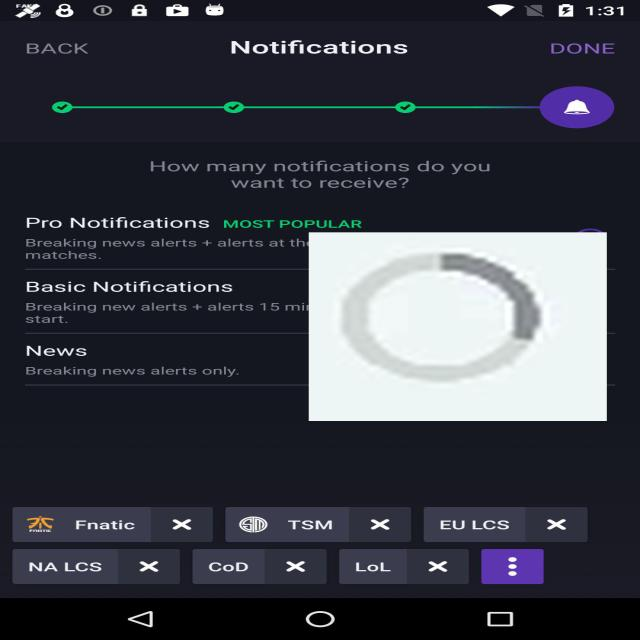misdirection: (309, 232, 607, 421)
